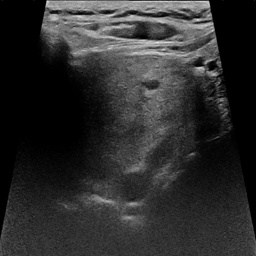mass: (77, 51, 194, 204)
